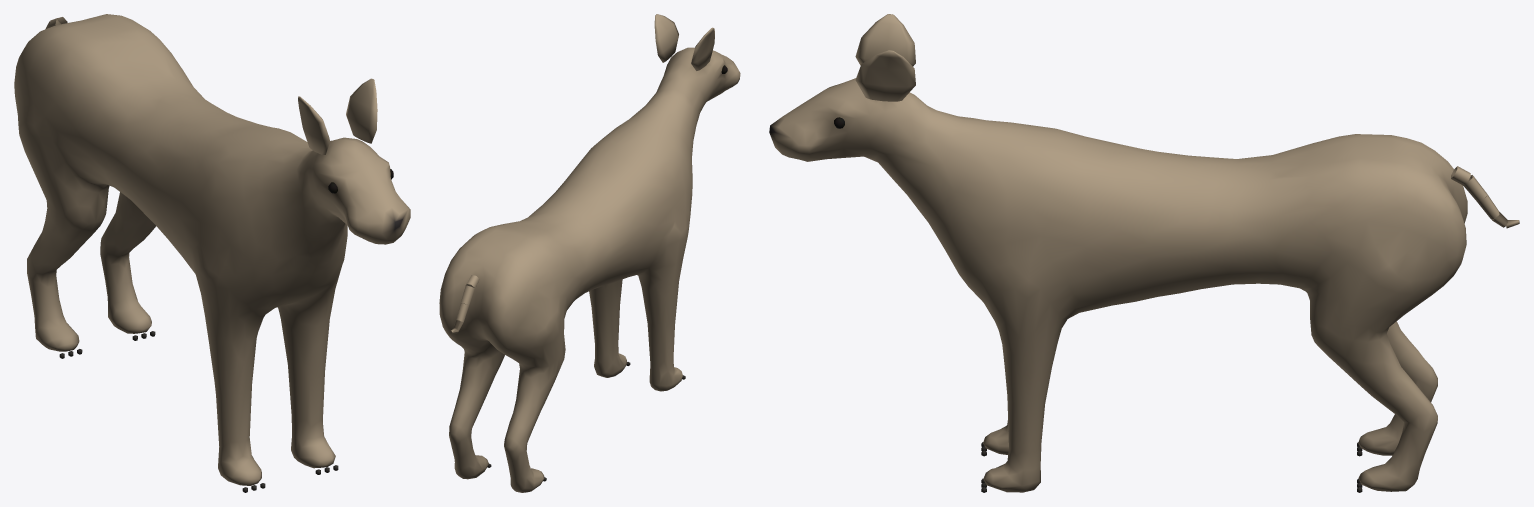
File: luchs.glb
The picture shows the model from 3 angles, left to right: view 1: azimuth 30°, elevation 25°; view 2: azimuth 150°, elevation 25°; view 3: azimuth 270°, elevation 25°; orthographic projection. The views are drawn at different scales.
Parts seen in each view (by area): view 1: lack; view 2: lack; view 3: lack.
Boxes of the visible parts, x1,y1,x2,y2 form: lack: (14, 14, 410, 492); lack: (439, 14, 740, 492); lack: (769, 14, 1519, 492).
Size of the model in its own units: 0.2964 by 0.8721 by 1.35.
